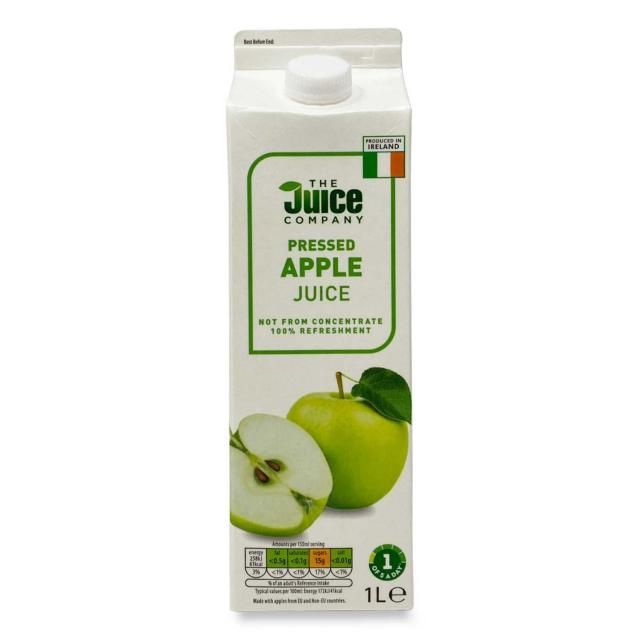non_white_jug: (208, 23, 452, 613)
